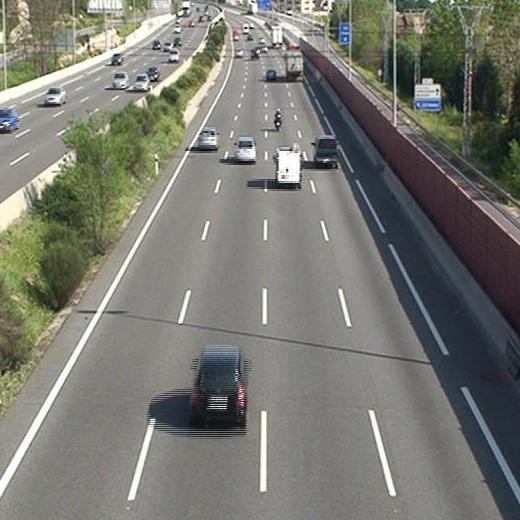car: (190, 348, 247, 421), (313, 135, 338, 164), (234, 137, 256, 162), (198, 127, 219, 148), (265, 69, 276, 81)
motorcycle: (274, 107, 283, 130)
truck: (284, 45, 303, 80)
van: (276, 152, 301, 187)
